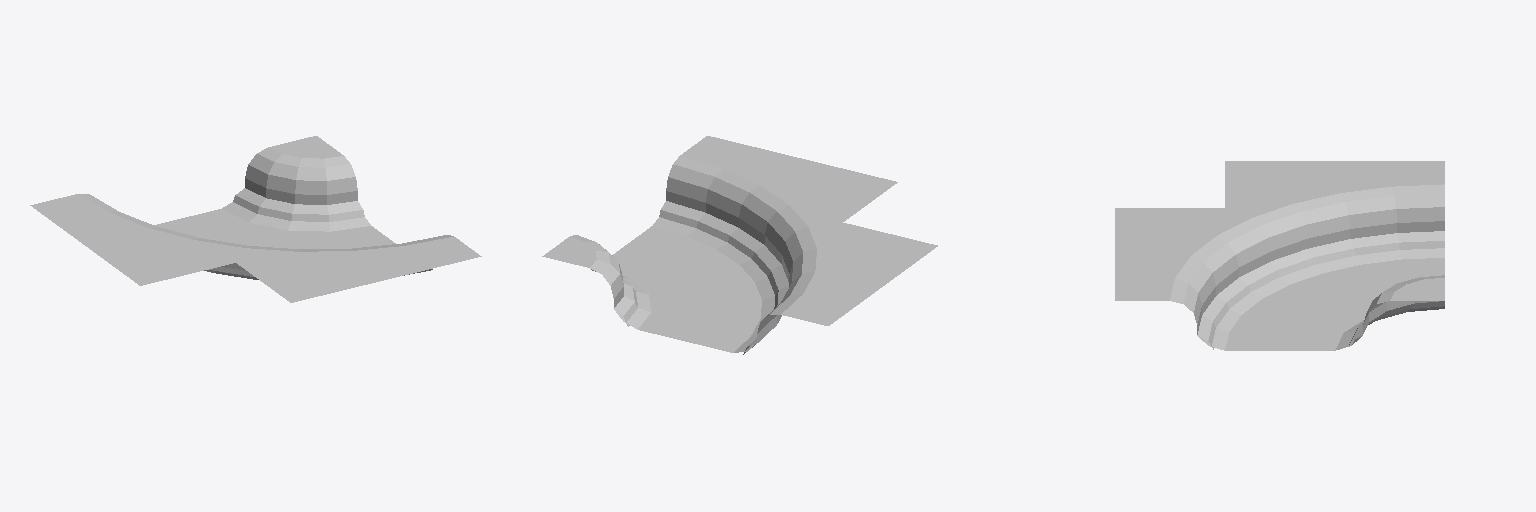
The model's file is Track_Striped_Curve_Single_3x3.obj.
3 renders of one model, left to right at view 1: azimuth 30°, elevation 25°; view 2: azimuth 150°, elevation 25°; view 3: azimuth 270°, elevation 25°, orthographic.
Parts seen in each view (by area): view 1: Grass, Dirt, Raceline_Color_1, Raceline_Color_2; view 2: Grass, Dirt, Raceline_Color_1, Raceline_Color_2; view 3: Grass, Dirt, Raceline_Color_2, Raceline_Color_1.
Boxes of the visible parts, box(x1,y1,x2,y2) form: Grass: box(30, 136, 481, 302); Dirt: box(154, 202, 395, 276); Raceline_Color_1: box(214, 198, 432, 279); Raceline_Color_2: box(204, 188, 328, 279); Grass: box(542, 136, 937, 342); Dirt: box(613, 217, 774, 352); Raceline_Color_1: box(591, 201, 788, 305); Raceline_Color_2: box(614, 213, 788, 354); Grass: box(1115, 161, 1444, 334); Dirt: box(1198, 248, 1444, 350); Raceline_Color_2: box(1202, 231, 1444, 326); Raceline_Color_1: box(1197, 233, 1407, 349).
Bounding box in the file's own units: 3 × 0.5 × 3.